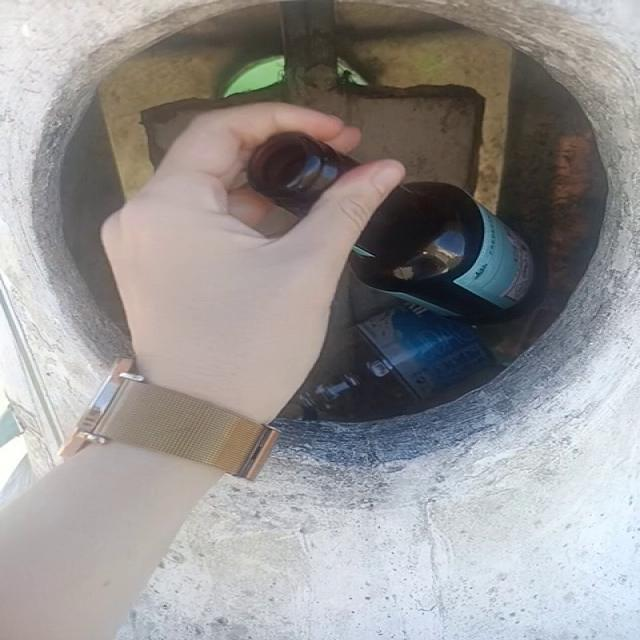Glass: (353, 182, 533, 320), (248, 133, 359, 216)
